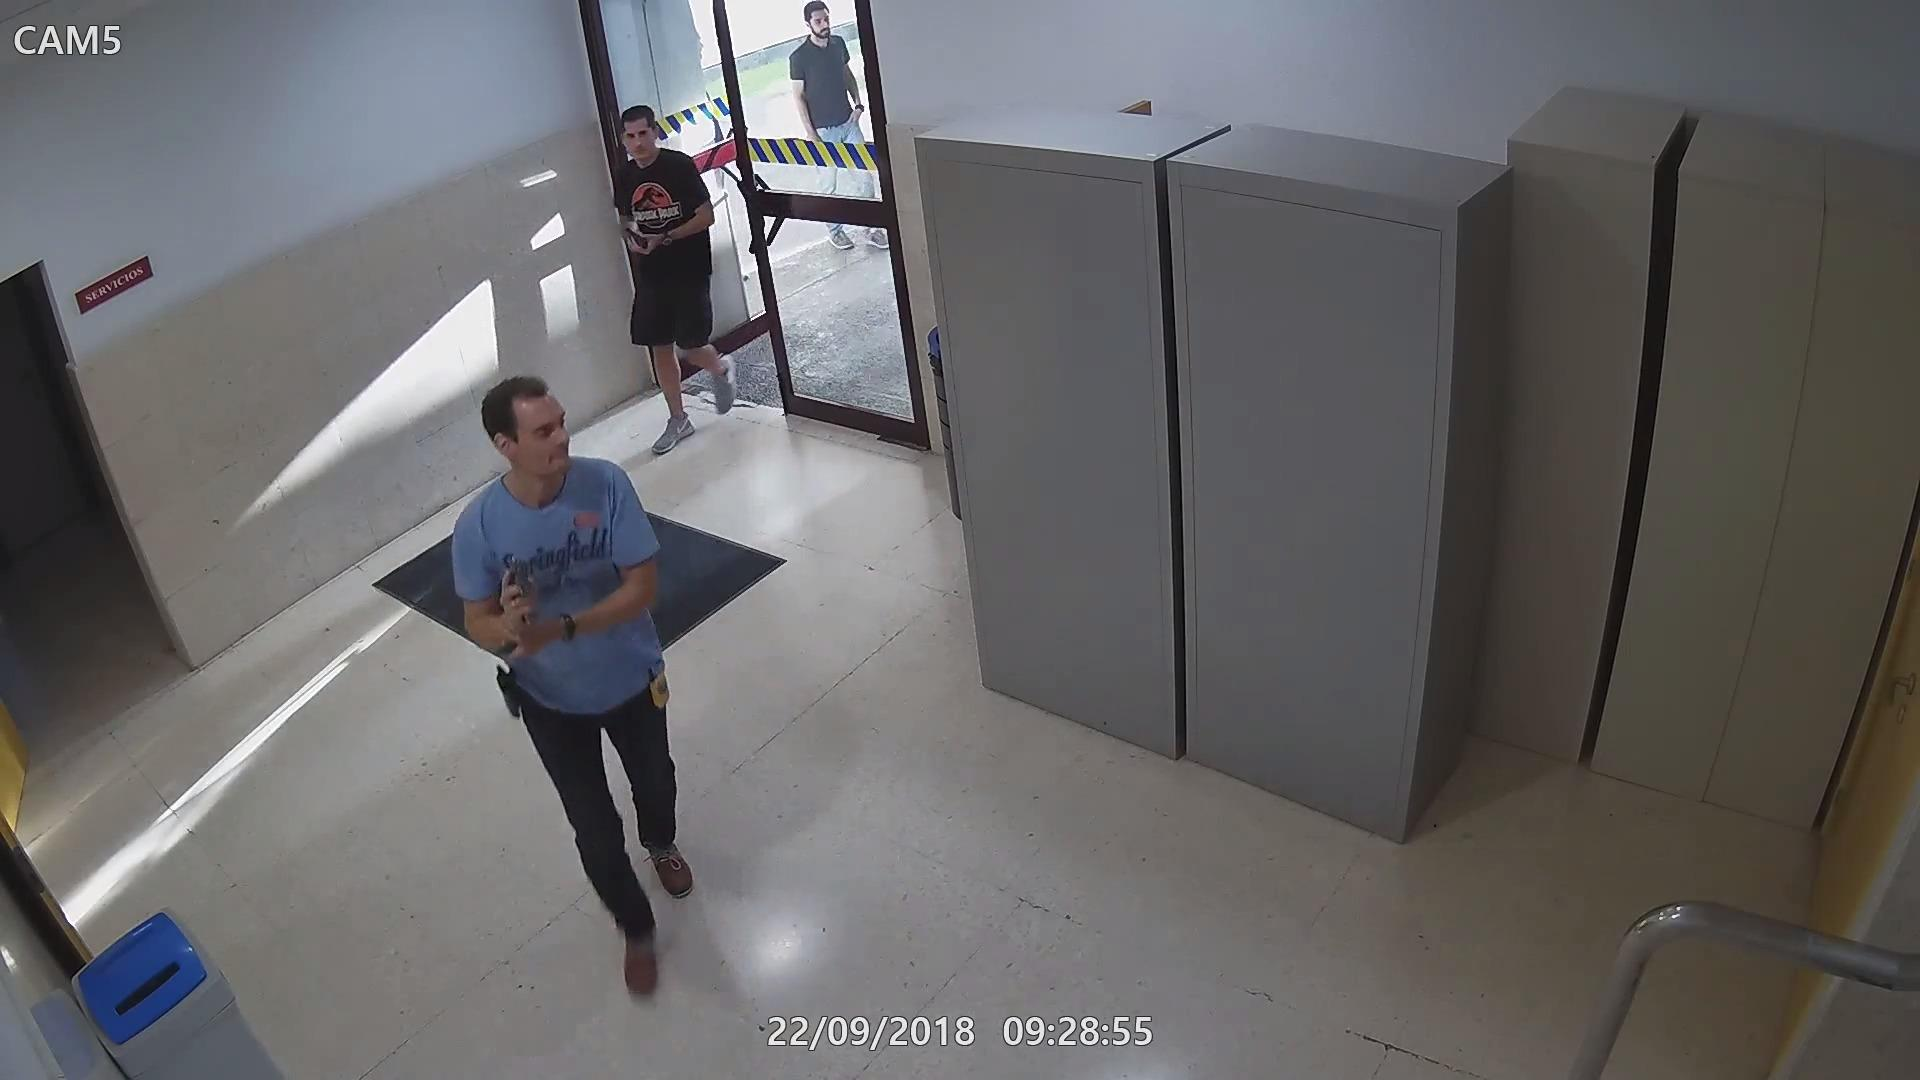Handgun: (500, 553, 541, 641), (617, 222, 650, 253)
